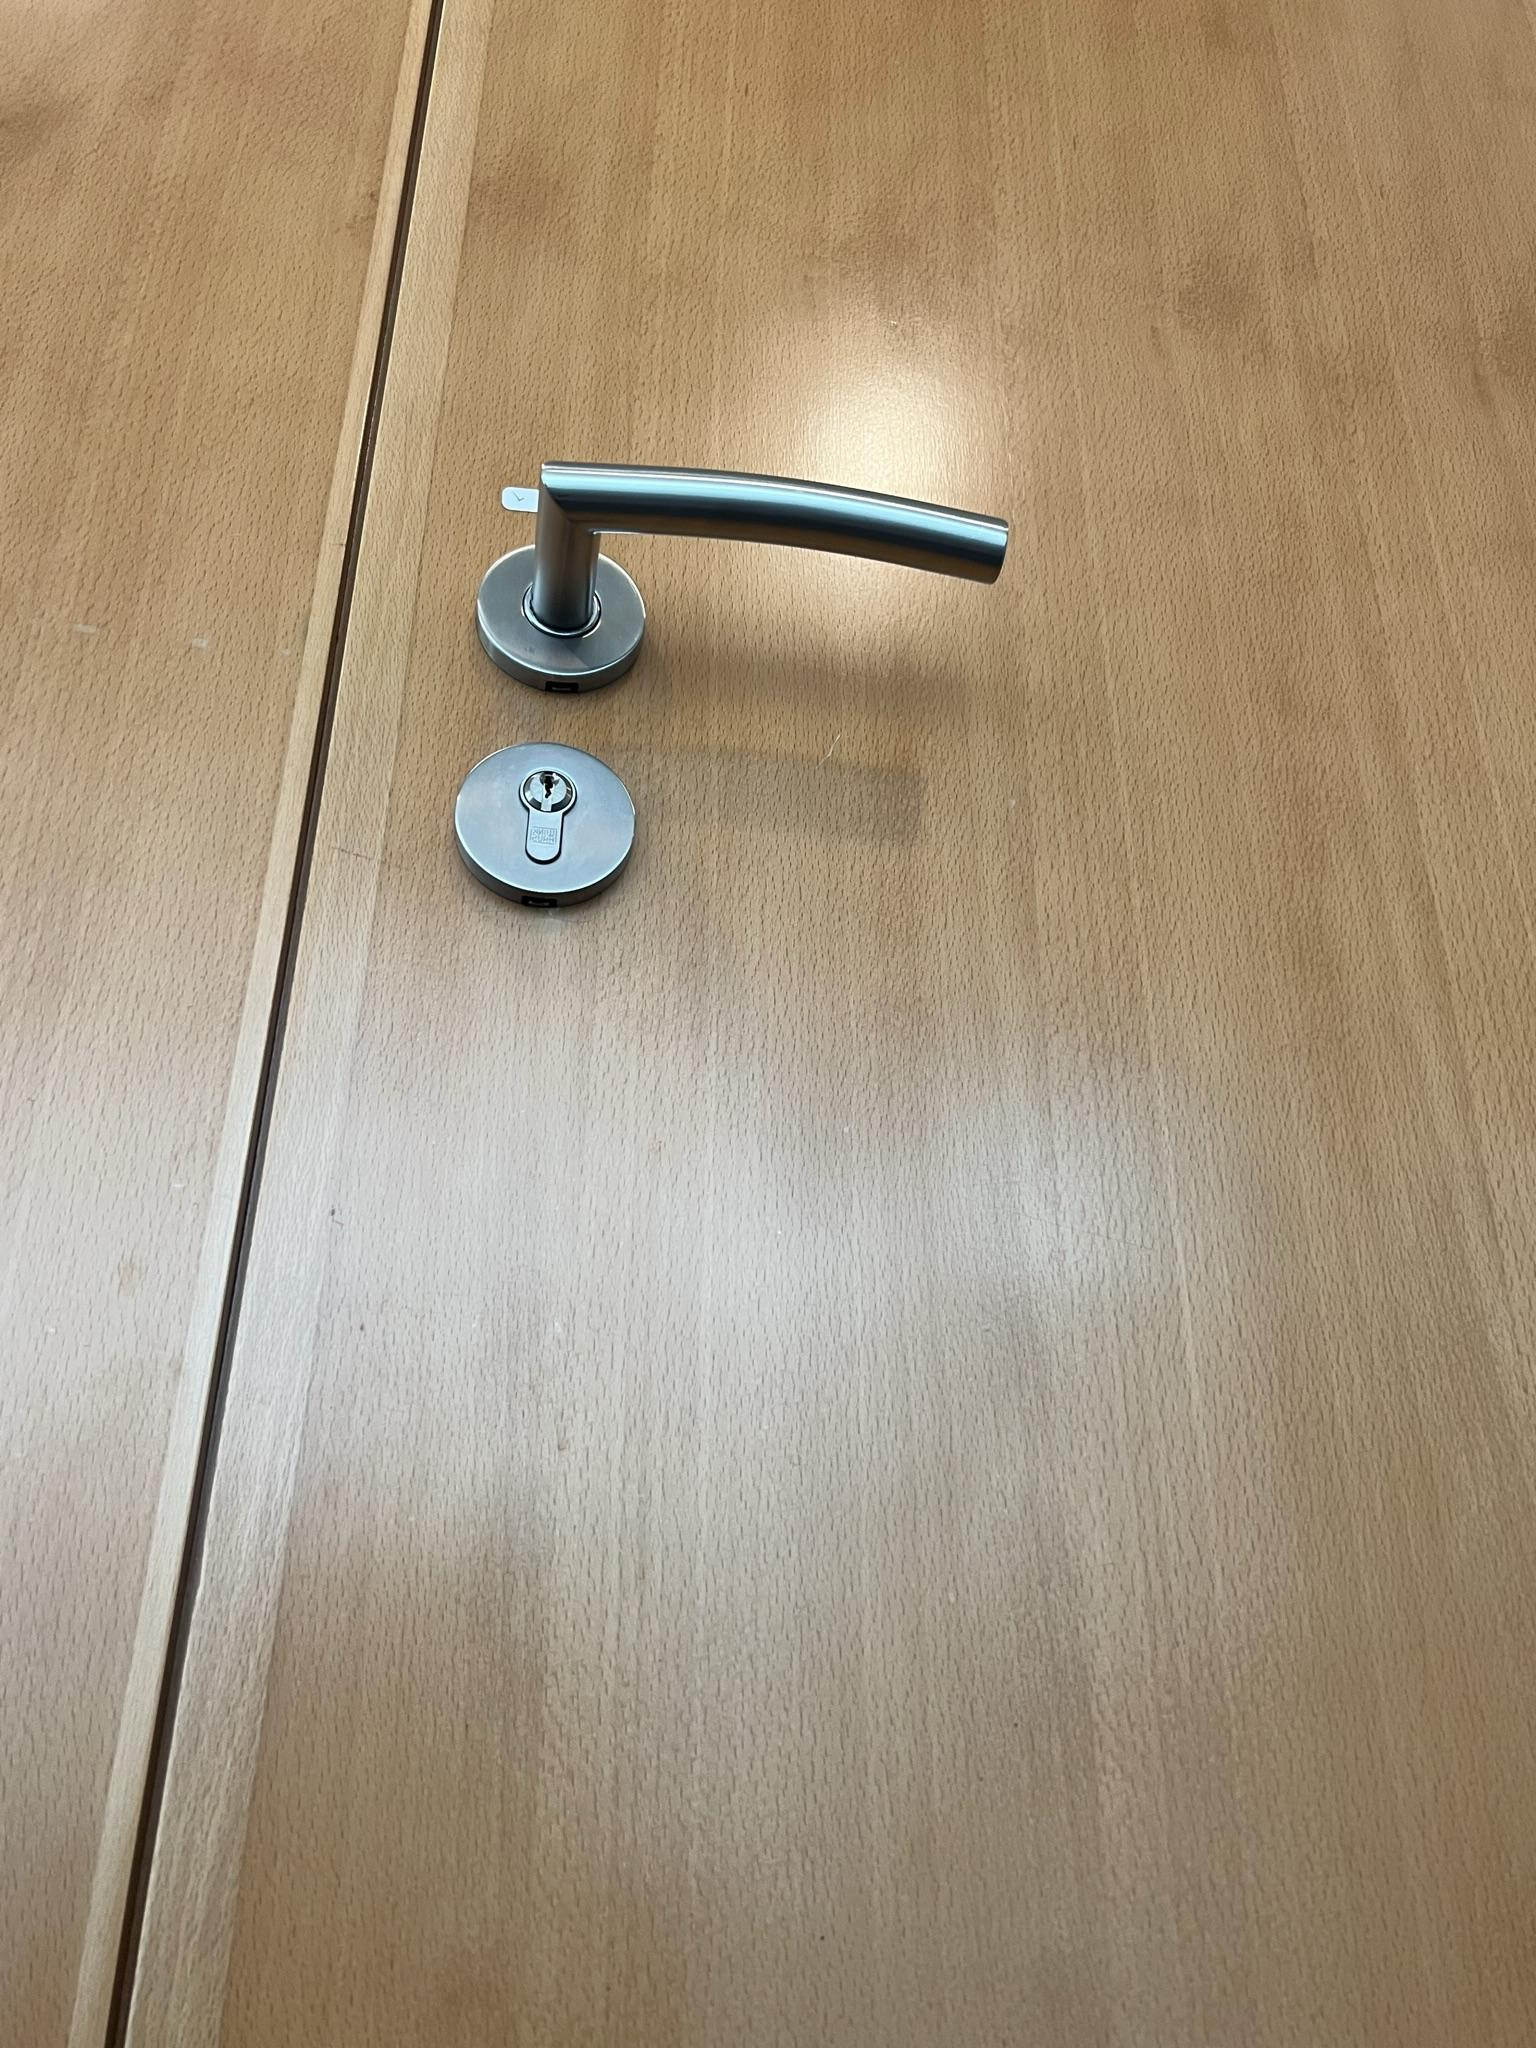door: (261, 2, 1497, 2035)
handle: (452, 452, 1029, 693)
